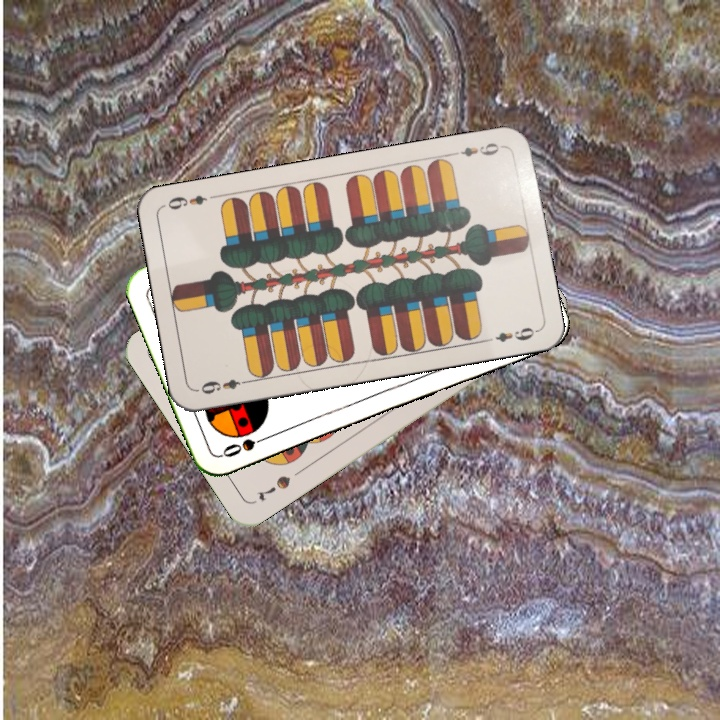E9: (194, 375, 253, 397), (447, 138, 506, 160)
S7: (254, 471, 294, 504)
SO: (218, 430, 275, 460)
